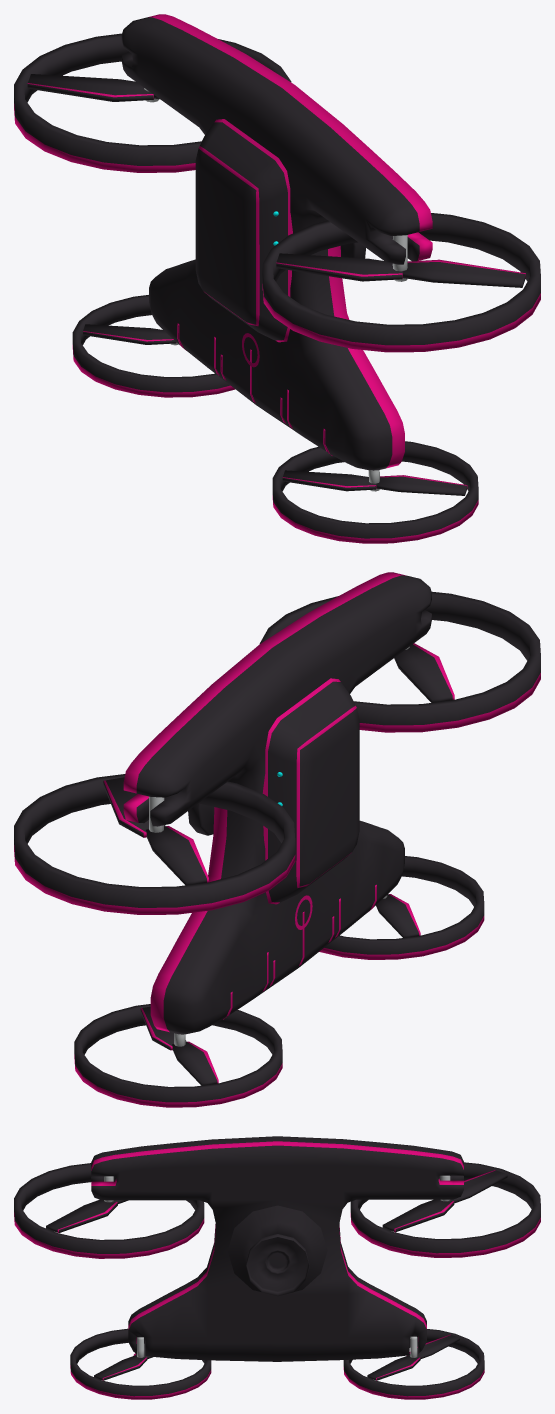
Rendered from GS_XI_mobility.fbx.
3 views of the same model, one above another, from view 1: azimuth 30°, elevation 25°; view 2: azimuth 150°, elevation 25°; view 3: azimuth 270°, elevation 25° (orthographic). The views are drawn at different scales.
Parts seen in each view (by area): view 1: mobility_body, mobility_prop002, mobility_prop001, mobility_prop004, mobility_prop003; view 2: mobility_body, mobility_prop001, mobility_prop002, mobility_prop003, mobility_prop004; view 3: mobility_body, mobility_prop001, mobility_prop002, mobility_prop003, mobility_prop004.
Boxes of the visible parts, x1=… form: mobility_body: x1=121, y1=14, x2=432, y2=470; mobility_prop002: x1=262, y1=213, x2=540, y2=352; mobility_prop001: x1=14, y1=33, x2=291, y2=172; mobility_prop004: x1=272, y1=441, x2=478, y2=543; mobility_prop003: x1=72, y1=295, x2=235, y2=397; mobility_body: x1=123, y1=572, x2=431, y2=1034; mobility_prop001: x1=14, y1=774, x2=295, y2=914; mobility_prop002: x1=259, y1=591, x2=540, y2=732; mobility_prop003: x1=74, y1=1004, x2=282, y2=1107; mobility_prop004: x1=319, y1=856, x2=484, y2=959; mobility_body: x1=91, y1=1136, x2=463, y2=1361; mobility_prop001: x1=350, y1=1162, x2=540, y2=1257; mobility_prop002: x1=14, y1=1163, x2=204, y2=1258; mobility_prop003: x1=343, y1=1329, x2=484, y2=1399; mobility_prop004: x1=70, y1=1328, x2=211, y2=1399.
Size of the model in its own units: 32.8 by 43.41 by 89.81.
